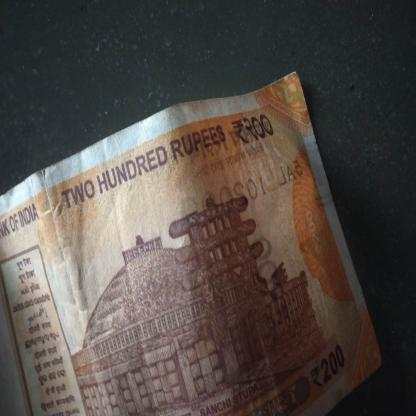New200Back: (0, 102, 353, 415)
